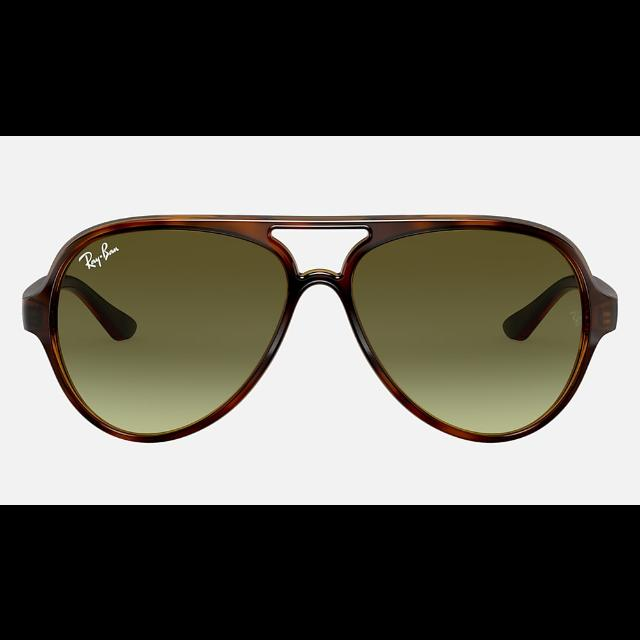Sunglasses: (24, 212, 616, 442)
